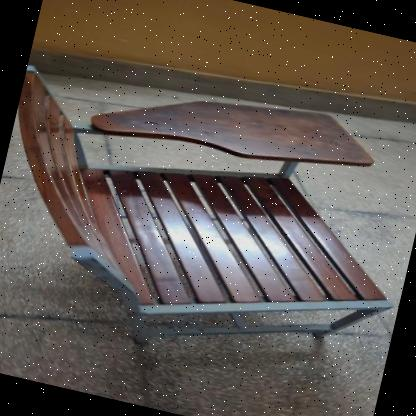chair: (0, 32, 416, 403)
